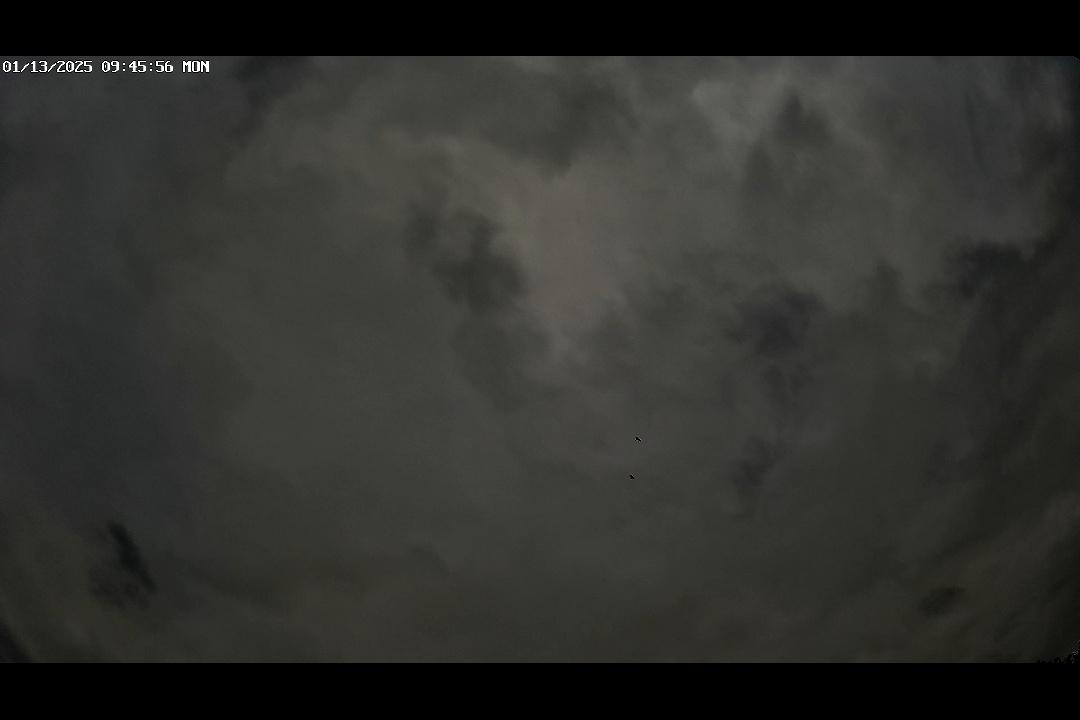WildLife: (615, 470, 649, 483), (626, 431, 647, 445)
